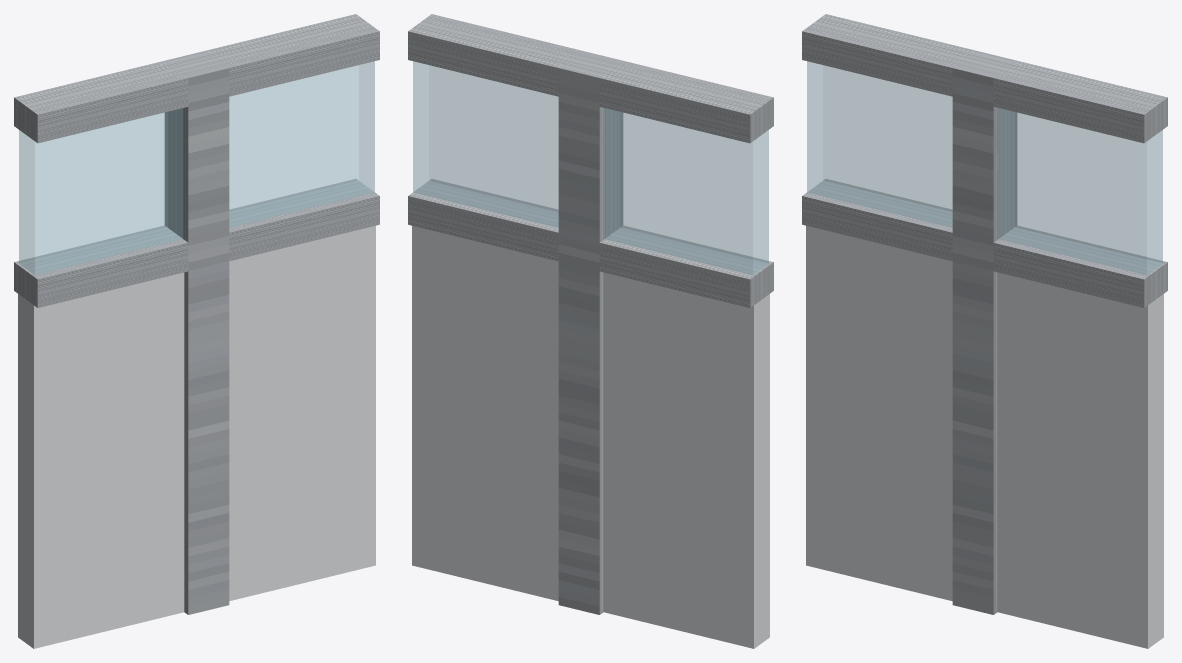
File: noise-barrier-half.glb
3 views of the same model, side by side, from view 1: azimuth 30°, elevation 25°; view 2: azimuth 150°, elevation 25°; view 3: azimuth 330°, elevation 25° (orthographic).
Visible parts, largest first — view 1: bridge-barrier-lower-panel (×2), bridge-barrier-glass (×2), bridge-barrier-post, bridge-barrier-top-rail (×2), bridge-barrier-middle-rail (×2); view 2: bridge-barrier-lower-panel (×2), bridge-barrier-glass (×2), bridge-barrier-post, bridge-barrier-top-rail (×2), bridge-barrier-middle-rail (×2); view 3: bridge-barrier-lower-panel (×2), bridge-barrier-glass (×2), bridge-barrier-post, bridge-barrier-top-rail (×2), bridge-barrier-middle-rail (×2).
Boxes of the visible parts, left/top/right/bottom form: bridge-barrier-lower-panel (×2): left=18, top=225, right=375, bottom=648; bridge-barrier-glass (×2): left=19, top=61, right=374, bottom=274; bridge-barrier-post: left=164, top=51, right=229, bottom=614; bridge-barrier-top-rail (×2): left=14, top=14, right=379, bottom=143; bridge-barrier-middle-rail (×2): left=14, top=179, right=379, bottom=307; bridge-barrier-lower-panel (×2): left=412, top=225, right=769, bottom=648; bridge-barrier-glass (×2): left=413, top=61, right=768, bottom=274; bridge-barrier-post: left=558, top=51, right=623, bottom=614; bridge-barrier-top-rail (×2): left=408, top=14, right=773, bottom=143; bridge-barrier-middle-rail (×2): left=408, top=179, right=773, bottom=307; bridge-barrier-lower-panel (×2): left=806, top=225, right=1163, bottom=648; bridge-barrier-glass (×2): left=807, top=61, right=1162, bottom=274; bridge-barrier-post: left=952, top=51, right=1017, bottom=614; bridge-barrier-top-rail (×2): left=802, top=14, right=1167, bottom=143; bridge-barrier-middle-rail (×2): left=802, top=179, right=1167, bottom=307.
Size of the model in its own units: 1 by 1.5 by 0.12.
Materials: 3 (1 with a texture image).
